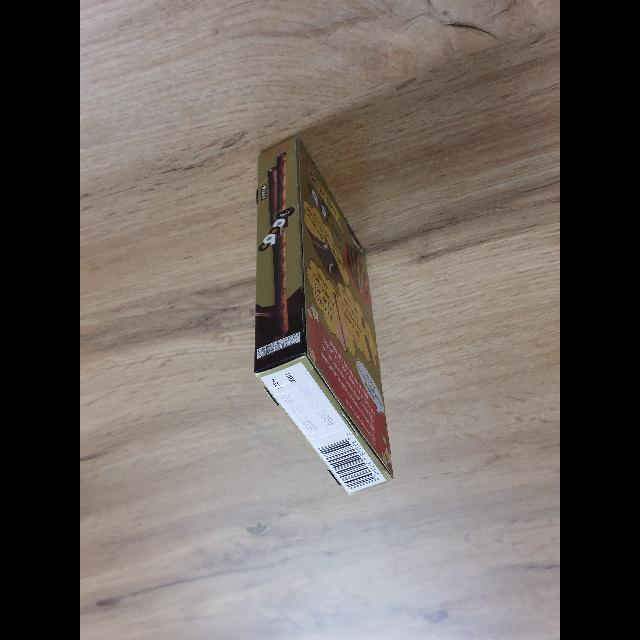banh_toppo_socola: (253, 134, 393, 491)
